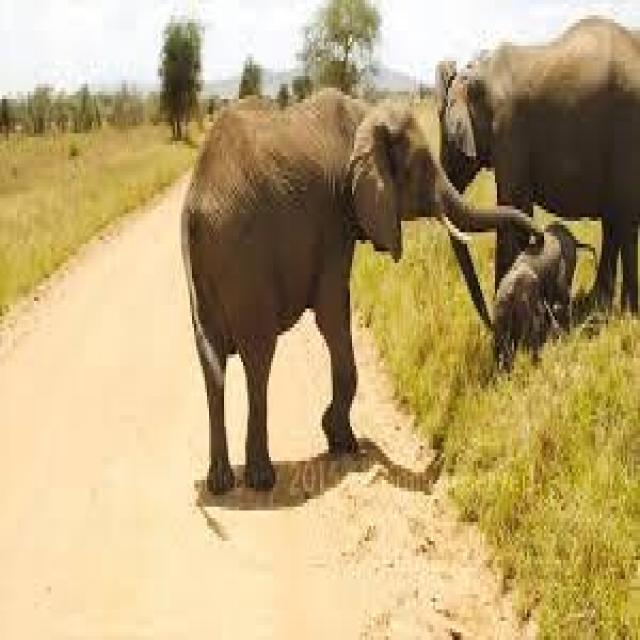Elephant: (177, 61, 546, 507), (441, 7, 640, 320), (482, 213, 595, 376)
